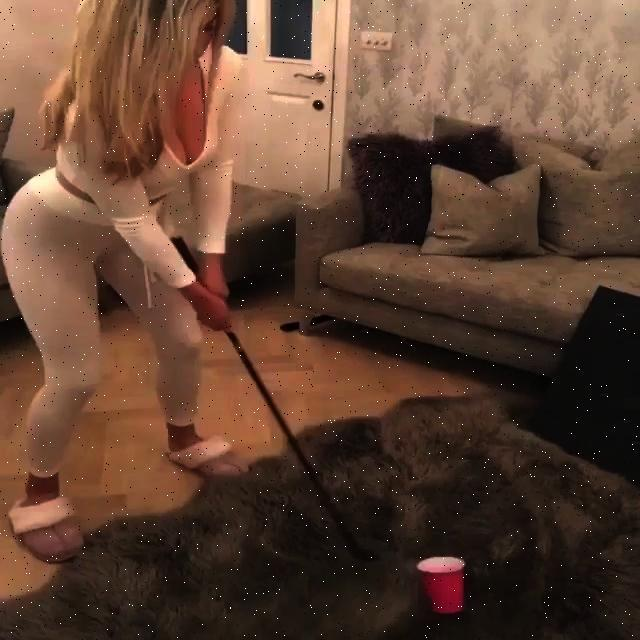ClubHead: (355, 548, 385, 564)
